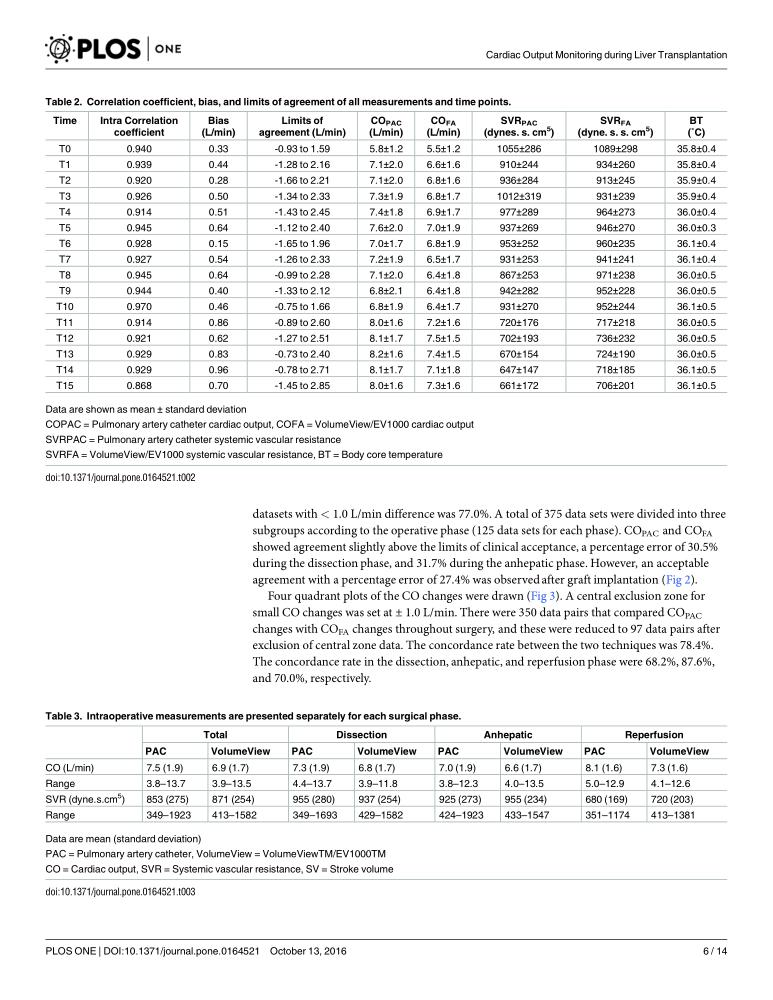table: (53, 116, 715, 391), (45, 730, 708, 820)
